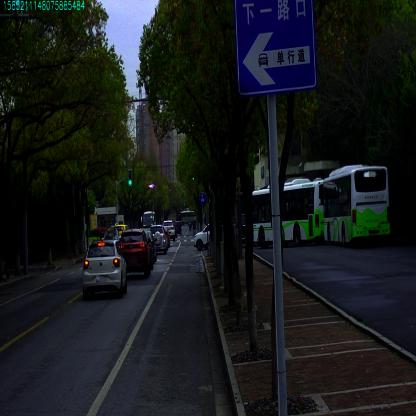traffic-light: (128, 170, 132, 186)
